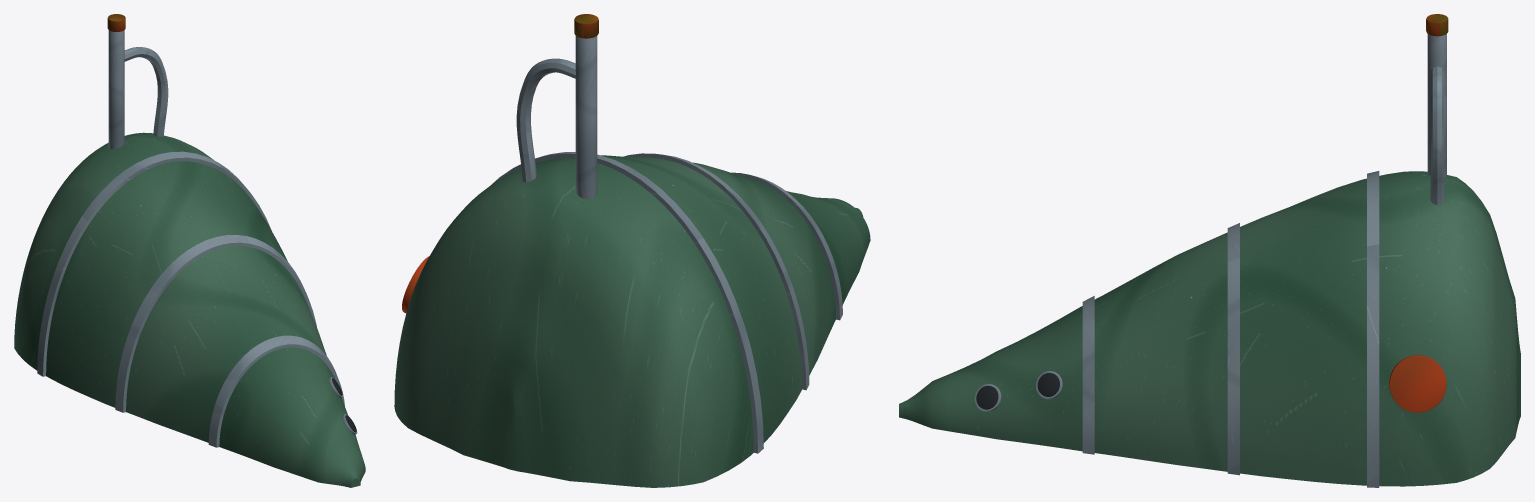
3 views of the same model, side by side, from view 1: azimuth 30°, elevation 25°; view 2: azimuth 150°, elevation 25°; view 3: azimuth 270°, elevation 25° (orthographic). The views are drawn at different scales.
Visible parts, largest first — view 1: Environmental Stabiliser tapered green metal shell, Environmental Stabiliser silver arch 2, Environmental Stabiliser silver arch 1, Environmental Stabiliser silver arch 0, Environmental Stabiliser rear silver upright, Environmental Stabiliser continuous return pipe; view 2: Environmental Stabiliser tapered green metal shell, Environmental Stabiliser silver arch 2, Environmental Stabiliser rear silver upright, Environmental Stabiliser silver arch 1, Environmental Stabiliser continuous return pipe, Environmental Stabiliser silver arch 0, Environmental Stabiliser small amber upright cap; view 3: Environmental Stabiliser tapered green metal shell, Environmental Stabiliser silver arch 2, Environmental Stabiliser silver arch 1, Environmental Stabiliser orange monitoring inset, Environmental Stabiliser silver arch 0, Environmental Stabiliser continuous return pipe, Environmental Stabiliser rear silver upright.
Part boxes in pixels (x1,y1,x2,y2): Environmental Stabiliser tapered green metal shell: (14, 132, 365, 487); Environmental Stabiliser silver arch 2: (37, 151, 271, 376); Environmental Stabiliser silver arch 1: (115, 235, 316, 412); Environmental Stabiliser silver arch 0: (208, 335, 344, 447); Environmental Stabiliser rear silver upright: (108, 30, 124, 149); Environmental Stabiliser continuous return pipe: (124, 47, 168, 136); Environmental Stabiliser tapered green metal shell: (394, 155, 870, 487); Environmental Stabiliser silver arch 2: (491, 152, 763, 453); Environmental Stabiliser rear silver upright: (575, 36, 597, 199); Environmental Stabiliser silver arch 1: (624, 153, 809, 390); Environmental Stabiliser continuous return pipe: (516, 58, 575, 182); Environmental Stabiliser silver arch 0: (731, 172, 842, 320); Environmental Stabiliser small amber upright cap: (574, 14, 598, 38); Environmental Stabiliser tapered green metal shell: (899, 171, 1520, 486); Environmental Stabiliser silver arch 2: (1367, 171, 1379, 487); Environmental Stabiliser silver arch 1: (1227, 223, 1239, 475); Environmental Stabiliser orange monitoring inset: (1389, 355, 1446, 412); Environmental Stabiliser silver arch 0: (1082, 296, 1094, 454); Environmental Stabiliser continuous return pipe: (1430, 66, 1443, 205); Environmental Stabiliser rear silver upright: (1427, 34, 1446, 177).
Size of the model in its own units: 1.25 by 1.52 by 2.23.
5 materials, 4 textured.
